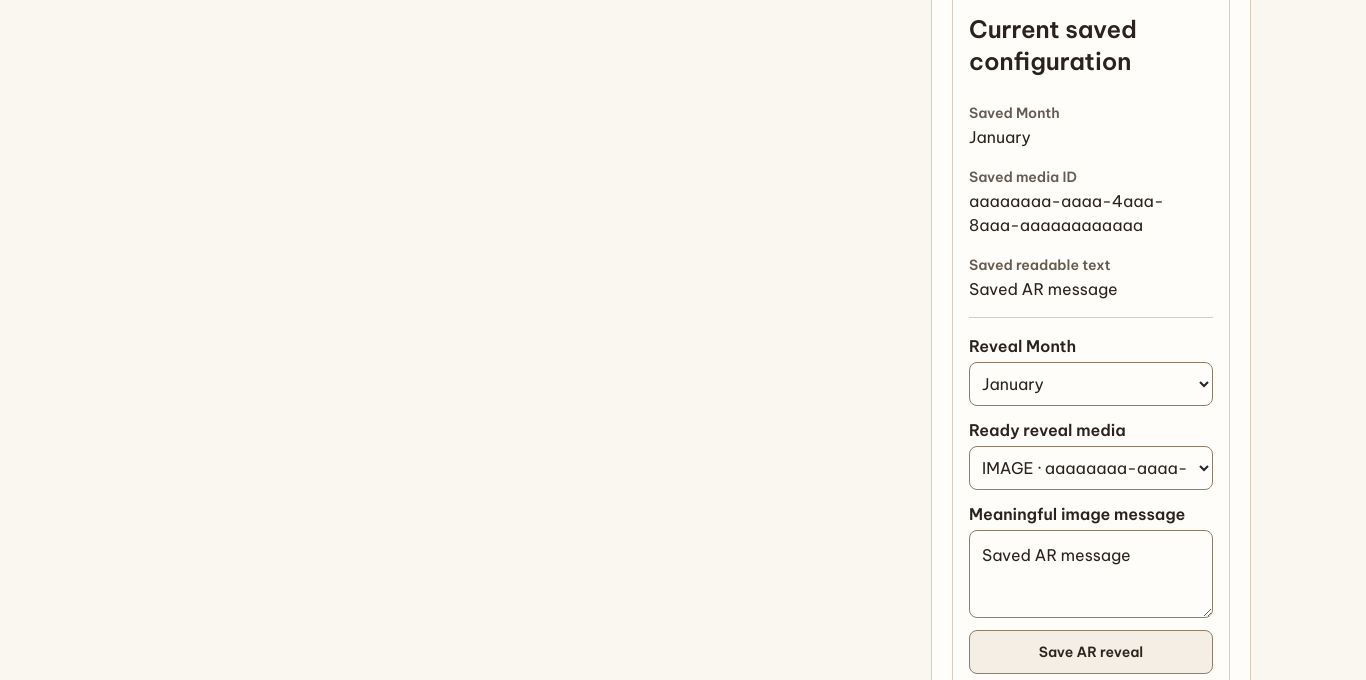
Batch 2 draft preservation › guards an AR-only month change and clears the warning after reverting
(page scrolled)
Expected: the text box showing "Saved AR message" is shown, [969,530,1213,618]
Select "February" in the dropdown labelled "Reveal Month": {"x": 1091, "y": 384} [969,362,1213,406]
(page scrolled)
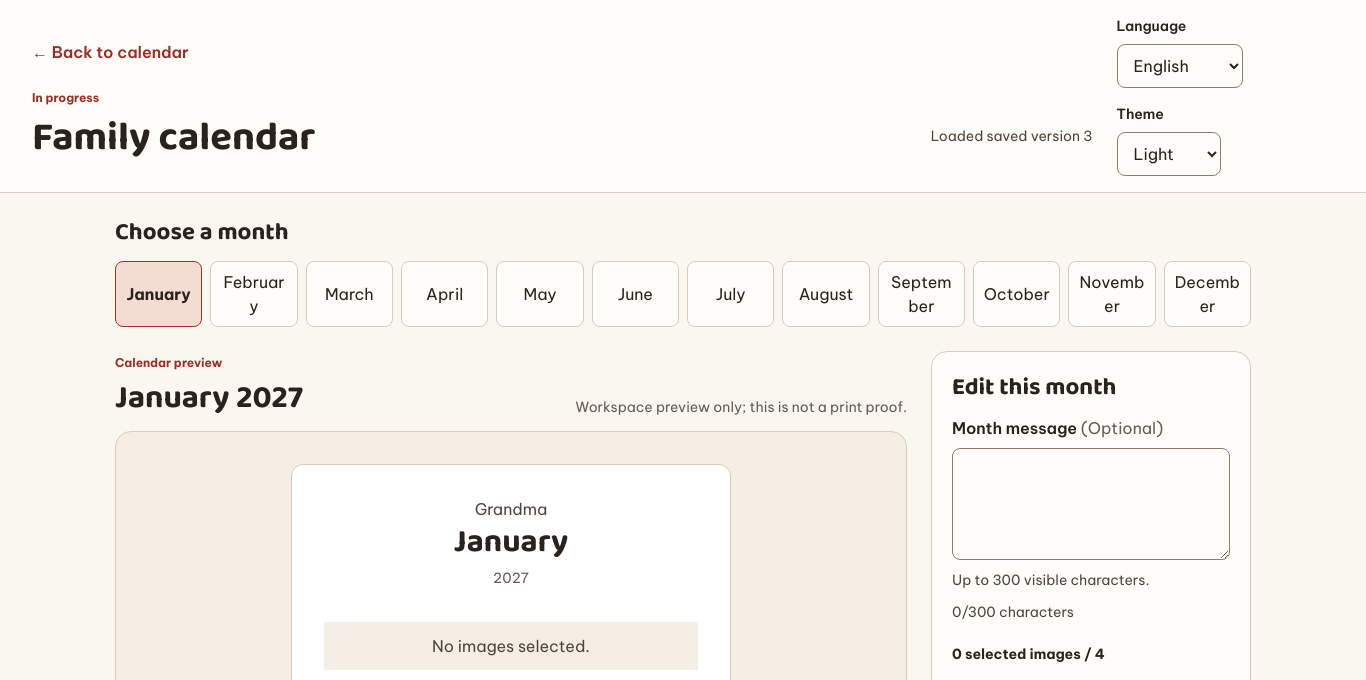
Click the link "← Back to calendar": {"x": 110, "y": 52} [32,42,189,62]
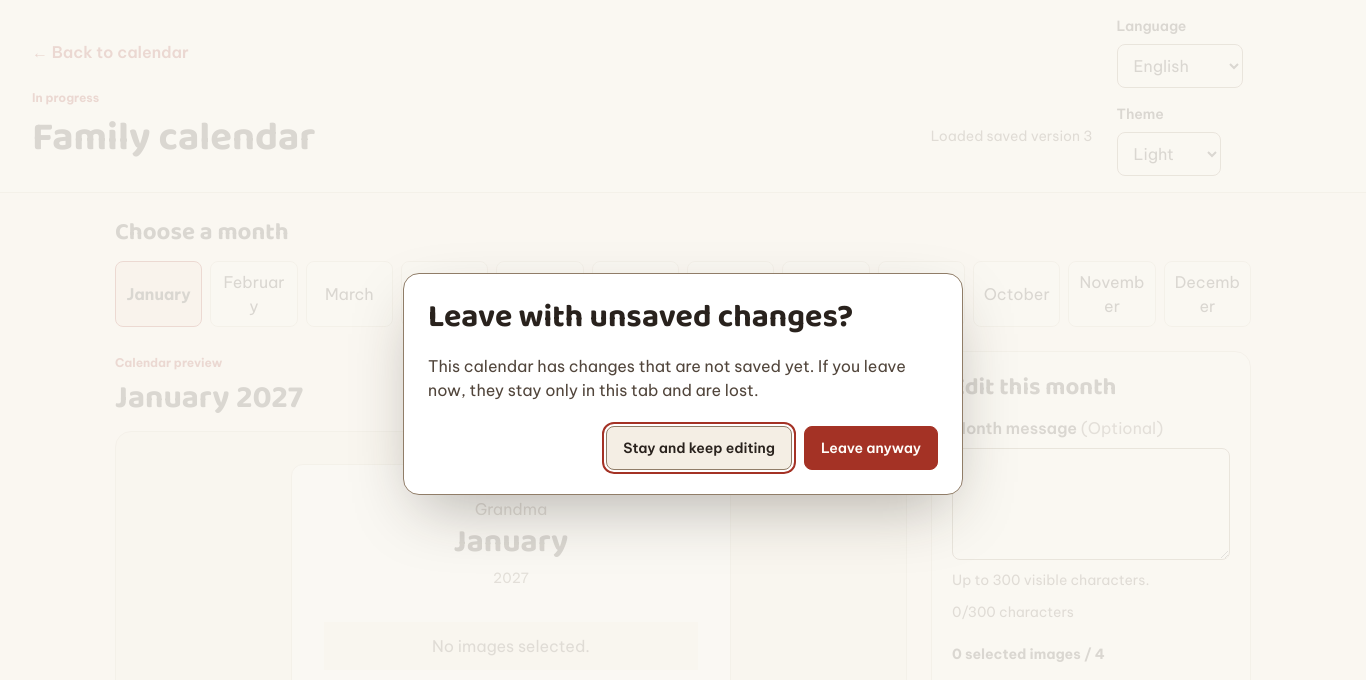
Click the button "Stay and keep editing": {"x": 699, "y": 448} [606,426,792,470]
(page scrolled)
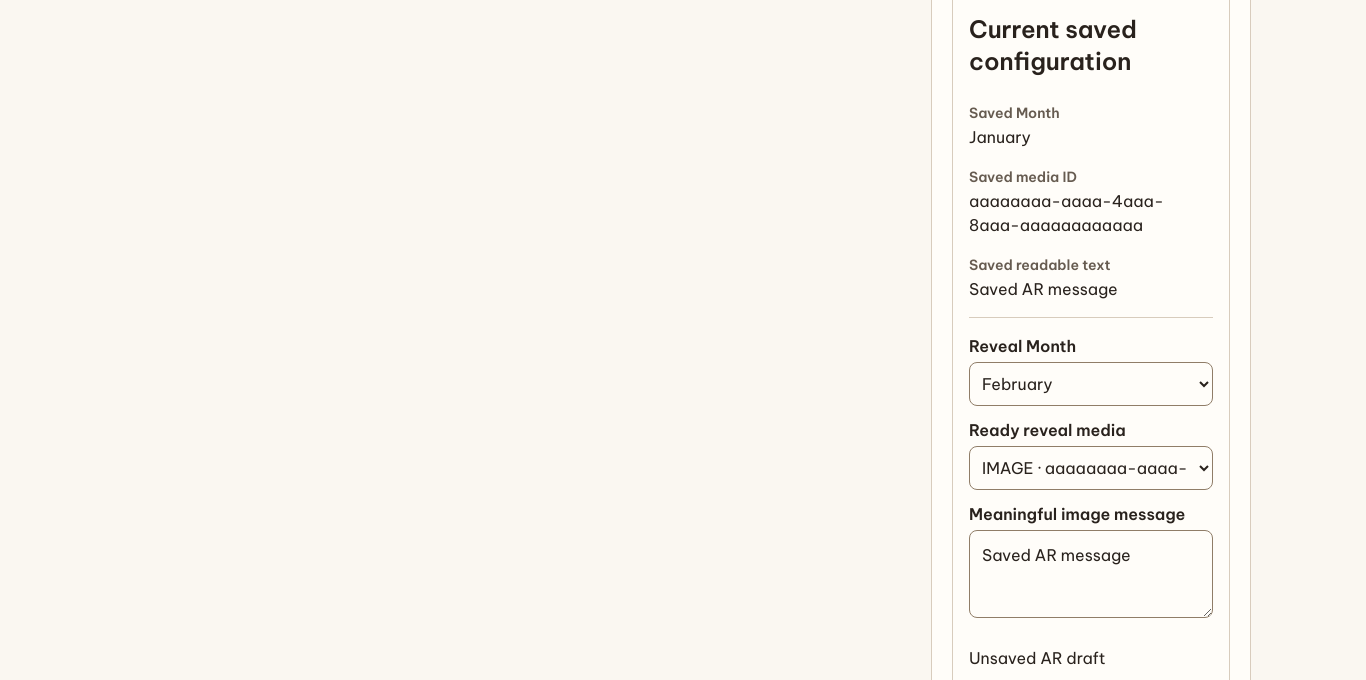
Expected: the dialog is gone
Select "January" in the dropdown labelled "Reveal Month": {"x": 1091, "y": 384} [969,362,1213,406]
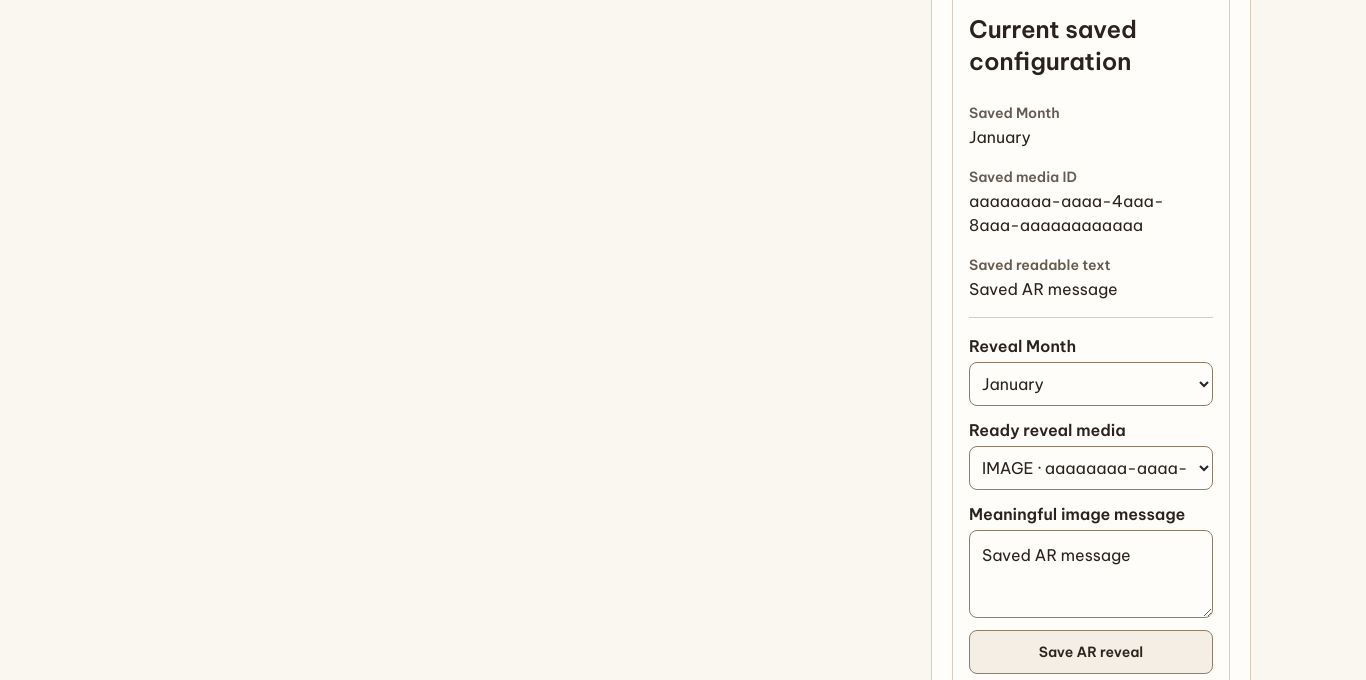
Expected: the text "Unsaved AR draft" is gone
